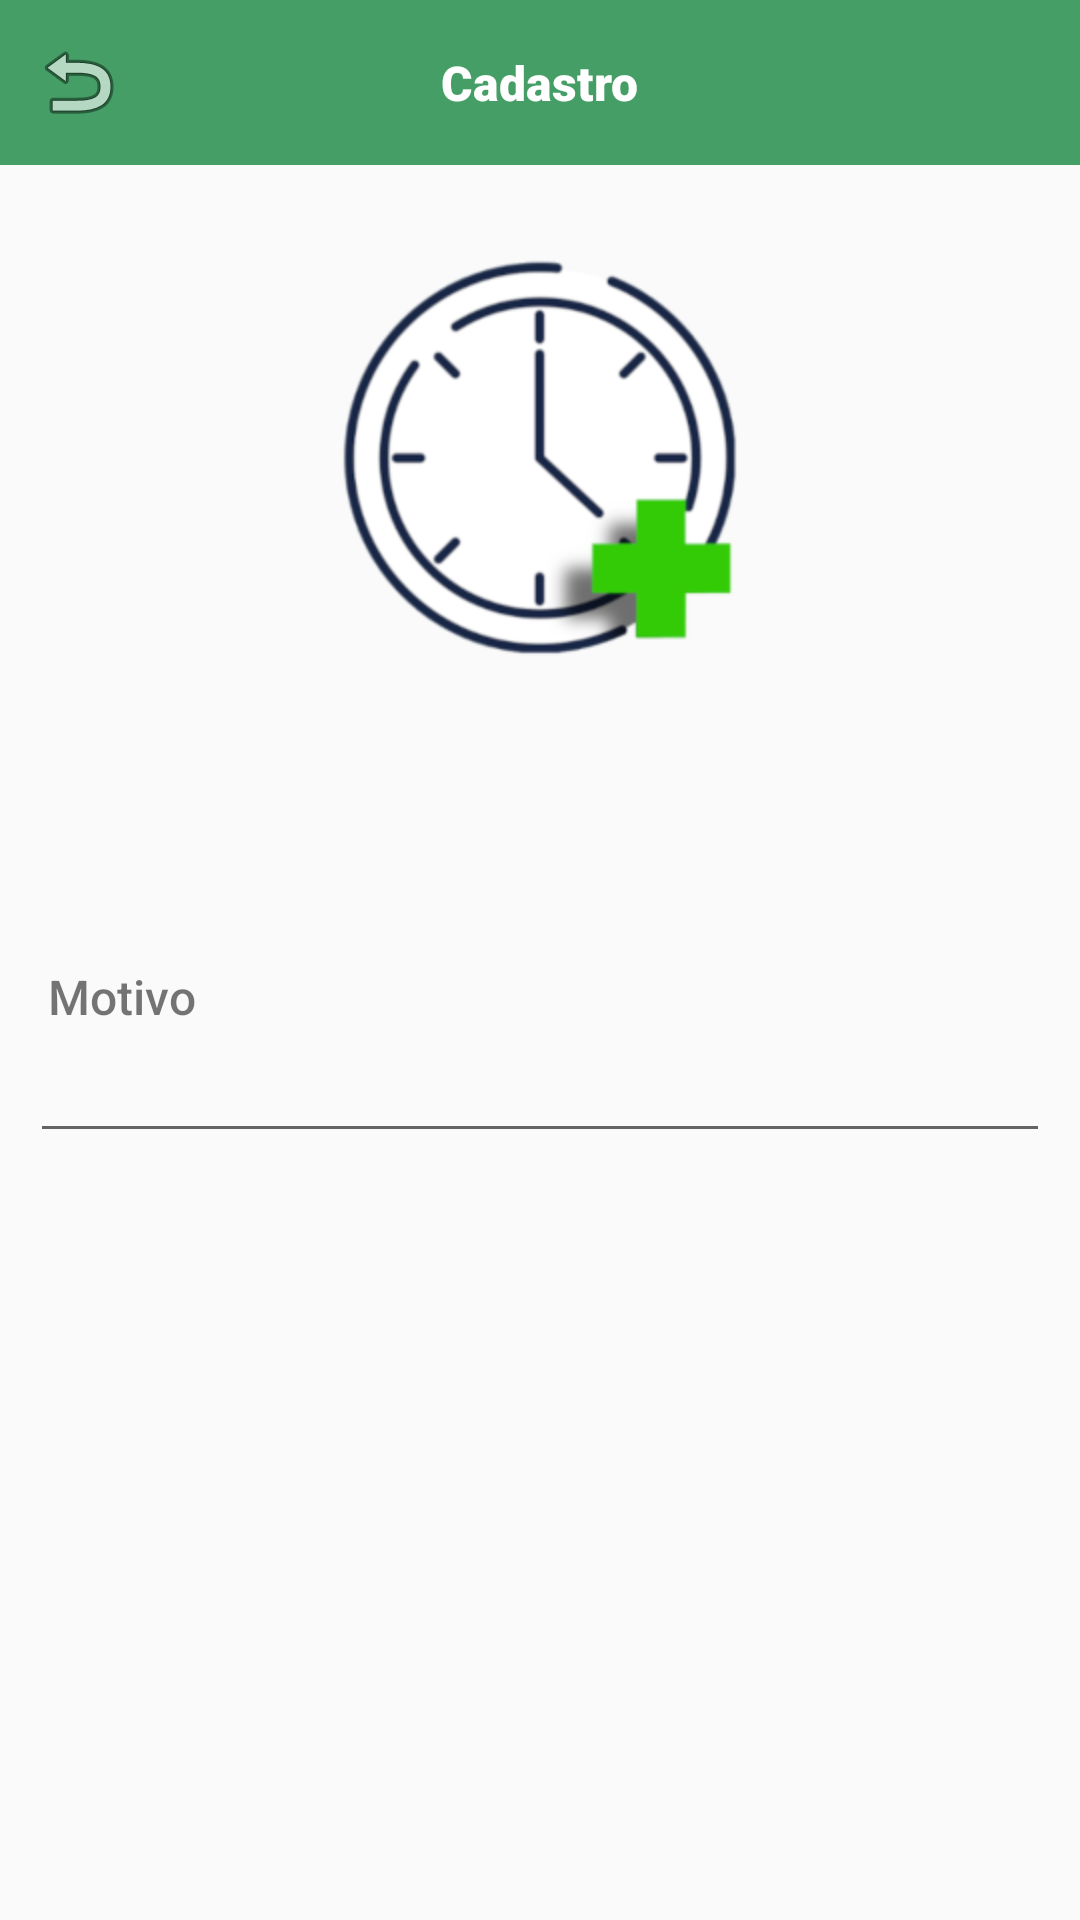

Named icons in this screenshot (1080px x 1920px) and their bounding boxes, BBox(x1, y1, x2, y2):
revert: BBox(45, 52, 114, 114)
